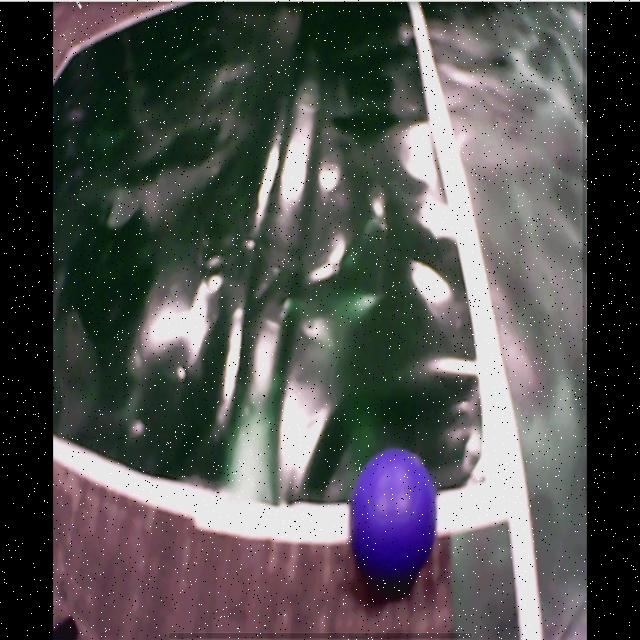ball: (352, 446, 439, 584)
